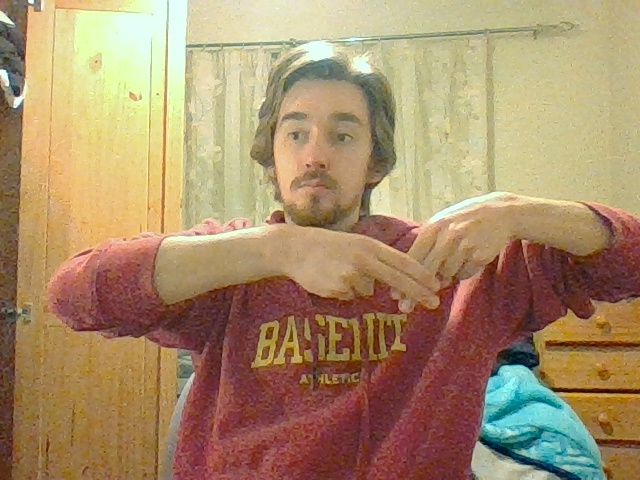father: (367, 209, 468, 312)
